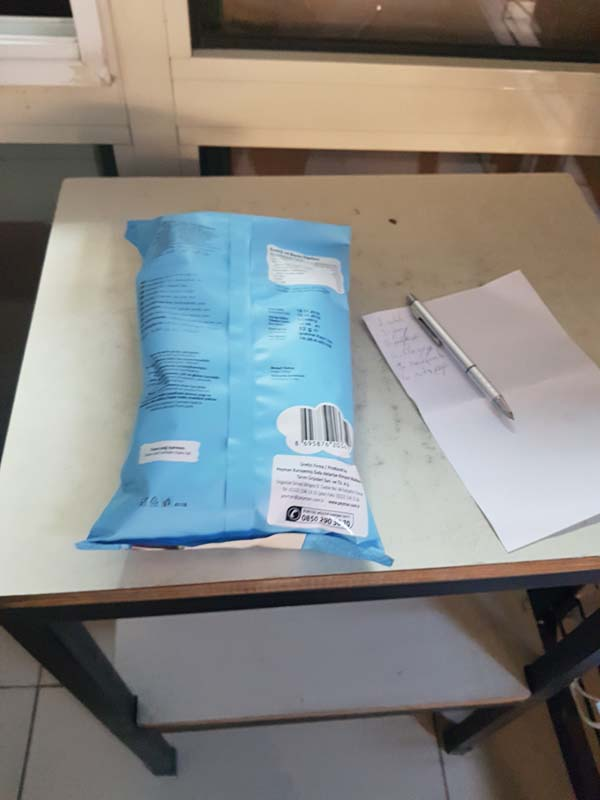popcorn: (94, 210, 398, 628)
